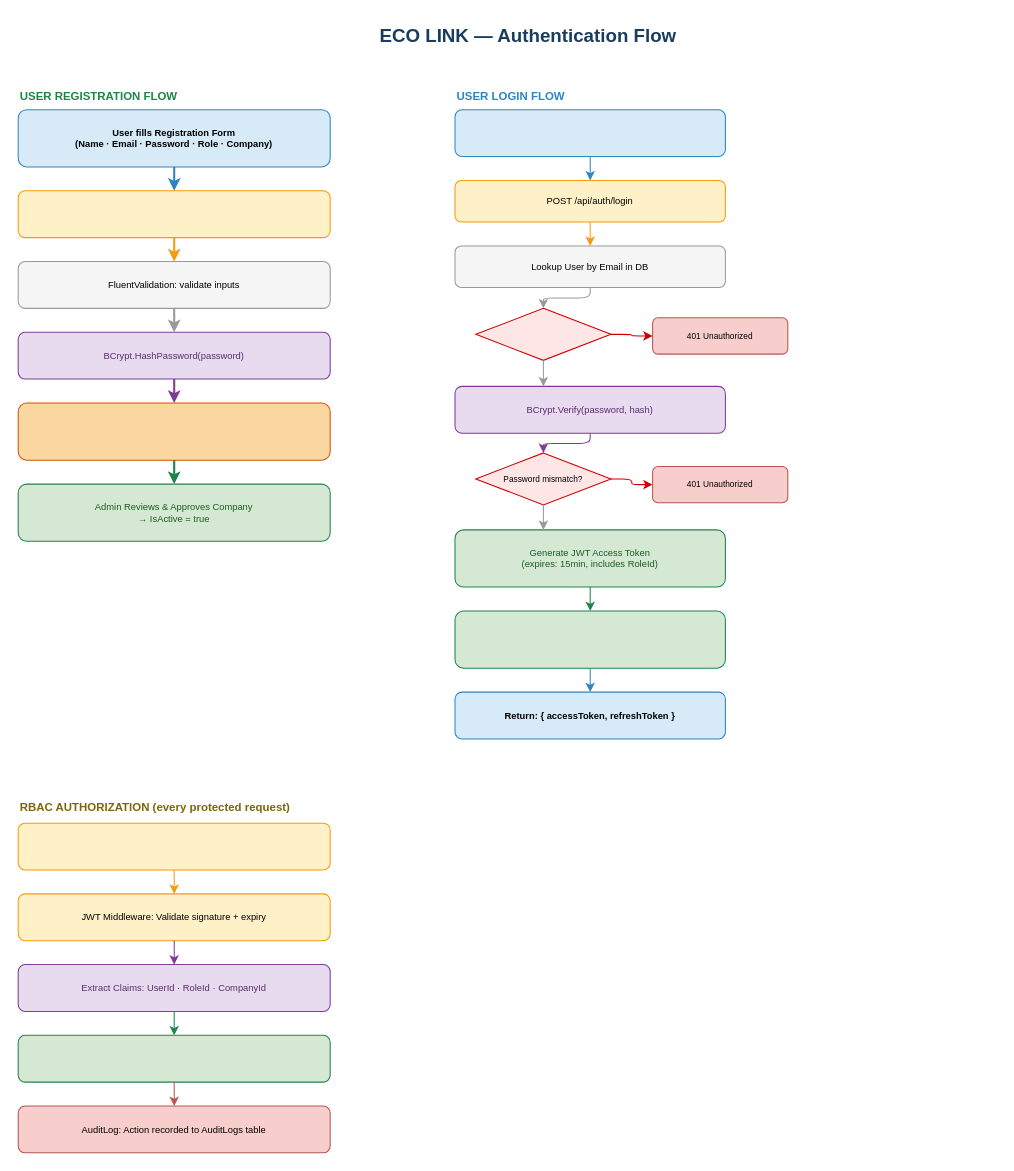
Image size: 1014x1171. Some labels were removed from this diagram. The centre of each missing label's shape, as x and y in pixels:
Client sends: Authorization: Bearer {accessToken}: the point at 173,846
Generate Refresh Token (expires: 7 days, stored in DB): the point at 589,639
INSERT INTO Users · Companies IsActive=false (pending verification): the point at 173,431
POST /api/auth/register: the point at 173,214
RBAC Policy: [Authorize(Roles="Factory")]: the point at 173,1058
User not found?: the point at 543,333
User submits Email + Password: the point at 589,133
